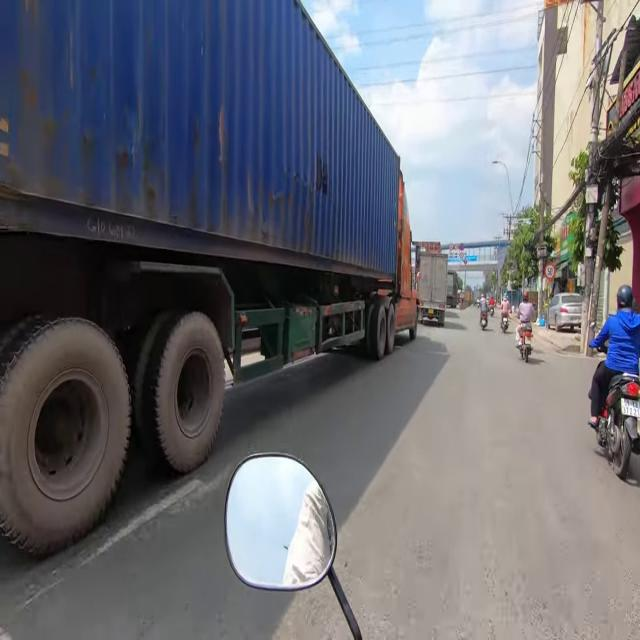bien_trang: (619, 396, 640, 424)
